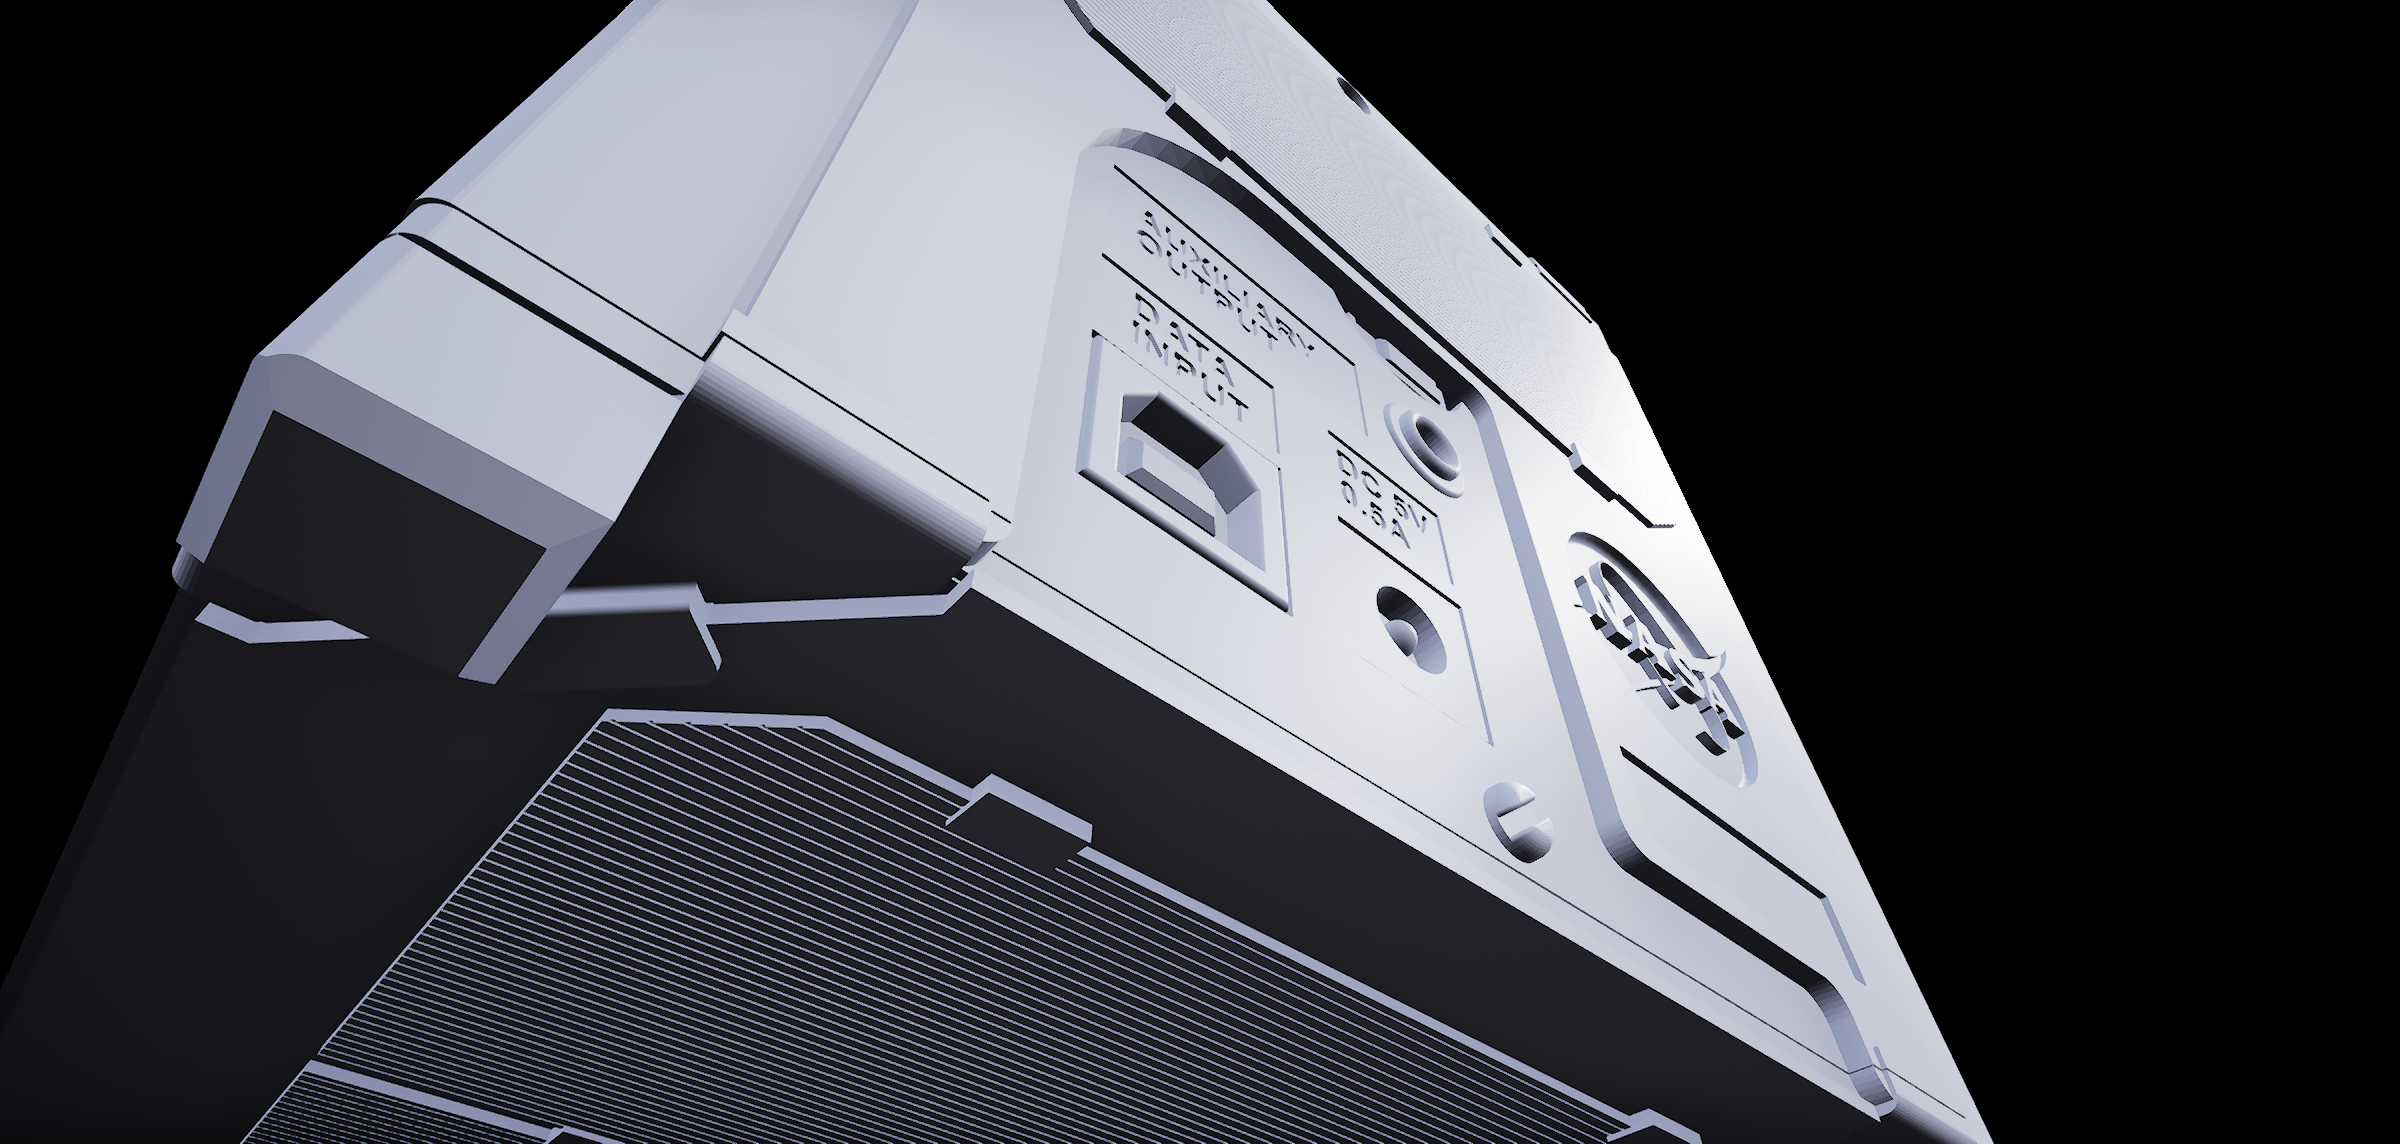aux: (1376, 384, 1482, 504)
dc: (1371, 567, 1462, 703)
usb: (1116, 377, 1273, 599)
